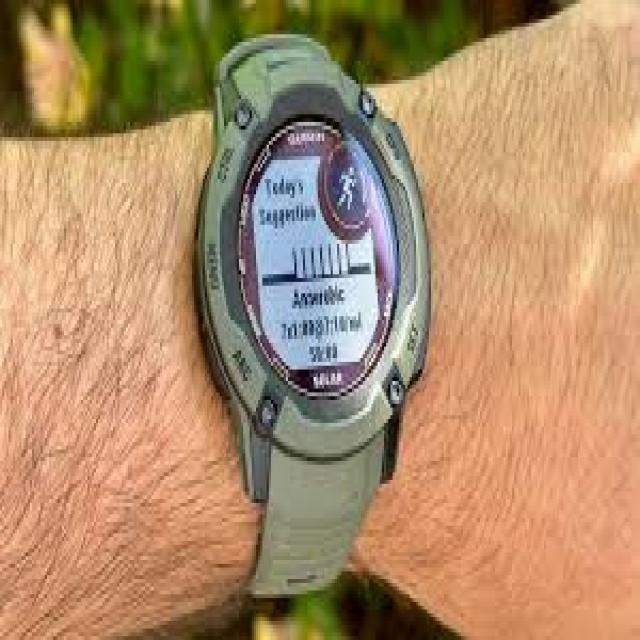objects: (192, 21, 437, 614)
